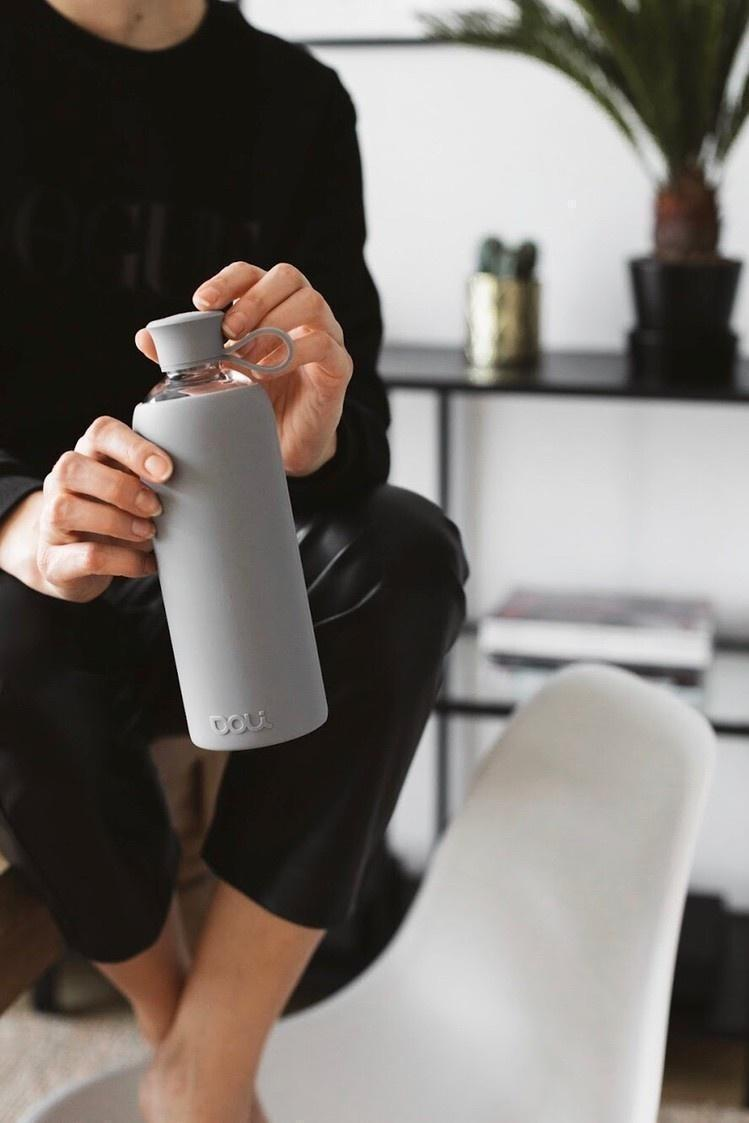gym bottle: (130, 306, 330, 751)
